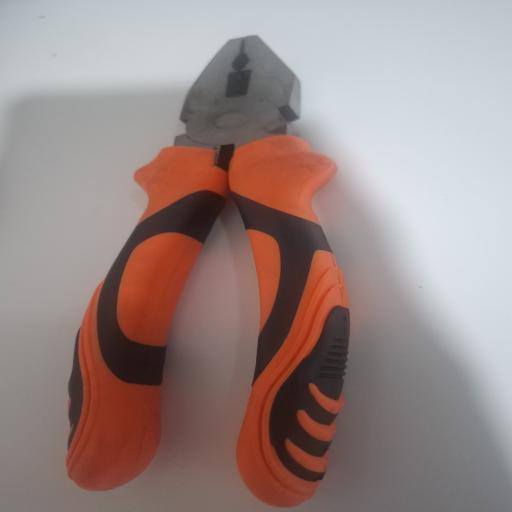alicate: (62, 38, 352, 508)
